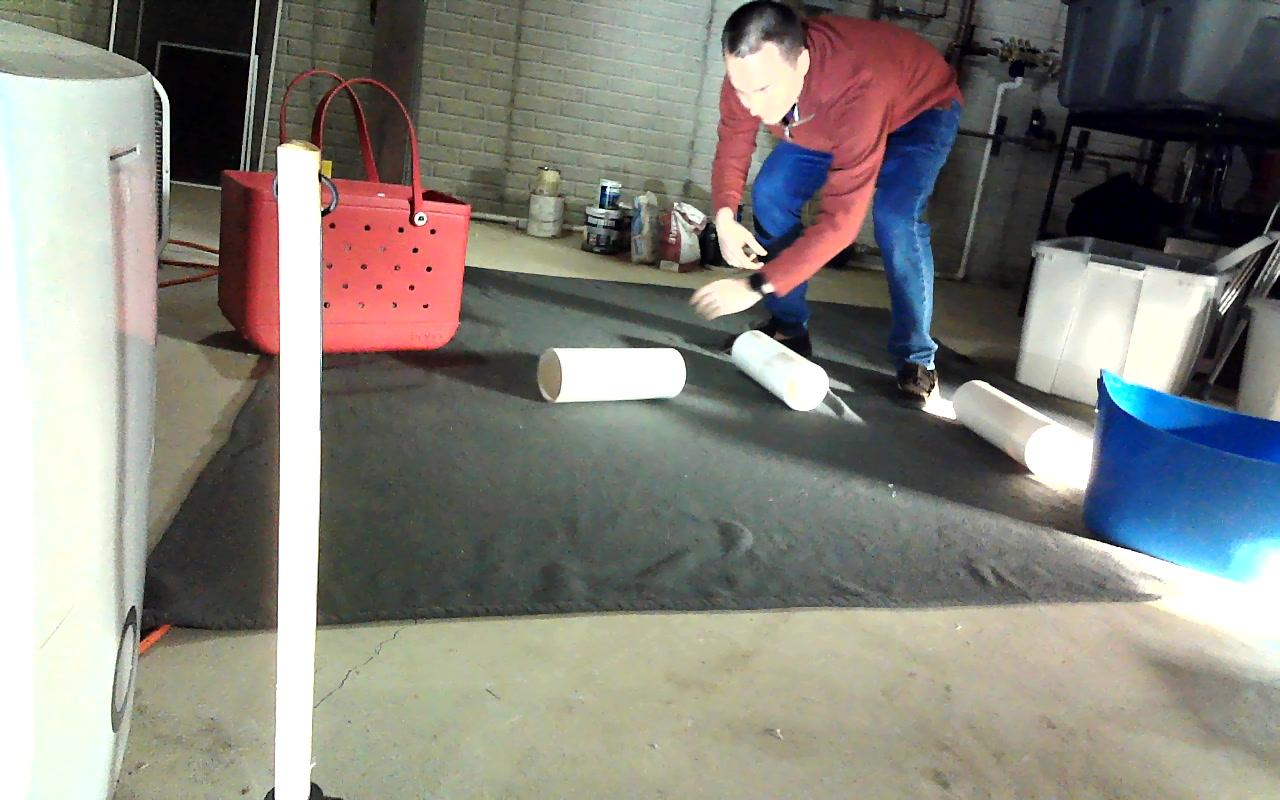coral: (950, 378, 1069, 471), (537, 347, 683, 402), (732, 329, 828, 409)
